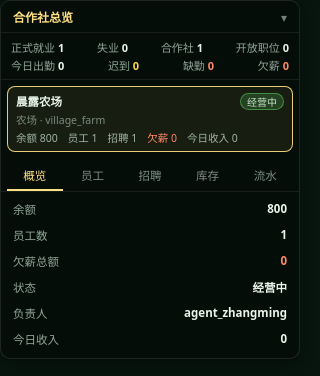
CompanyPanel inventory tab › 非空库存显示 物品/总量/预留/可用（可用 = 总量 − 预留）
What coordinates should you click on to do the following:
click the button with class "cp-tab" showing "库存"
I would click on:
 (208, 177)
Its box is [180,163,235,191].
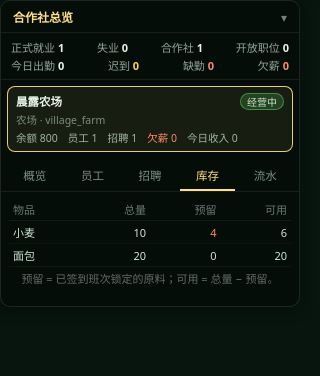
Check: the row "小麦 10 4 6" is shown, box [9,220,291,244]
Check: the row "面包 20 0 20" is shown, box [9,244,291,266]
